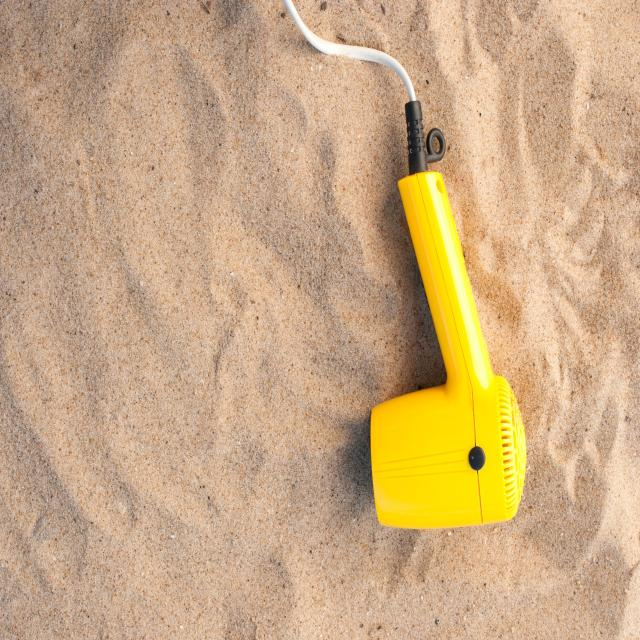dryer: (369, 99, 527, 532)
